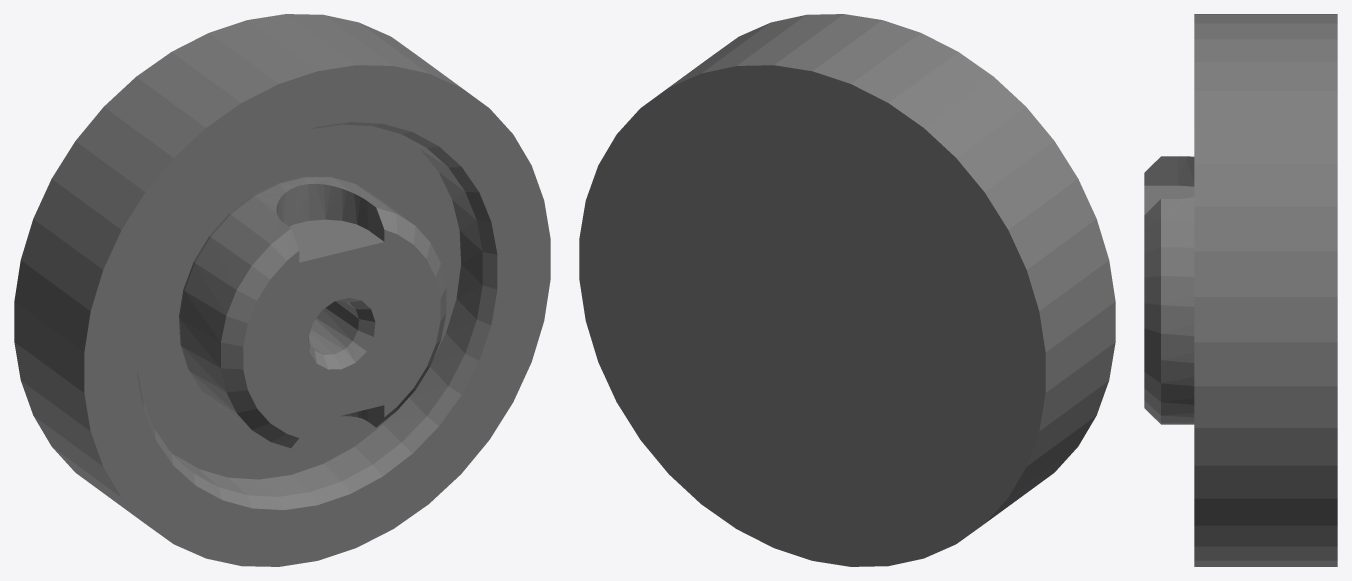
The model's file is grinder.dae.
3 renders of one model, left to right at view 1: azimuth 30°, elevation 25°; view 2: azimuth 150°, elevation 25°; view 3: azimuth 270°, elevation 25°, orthographic. The views are drawn at different scales.
Parts seen in each view (by area): view 1: node; view 2: node; view 3: node.
Part boxes in pixels (left/top/right/bottom): node: left=14, top=14, right=550, bottom=566; node: left=579, top=14, right=1115, bottom=566; node: left=1144, top=14, right=1337, bottom=566.
Bounding box in the file's own units: 0.0329 × 0.033 × 0.0115.
1 material, 1 textured.
